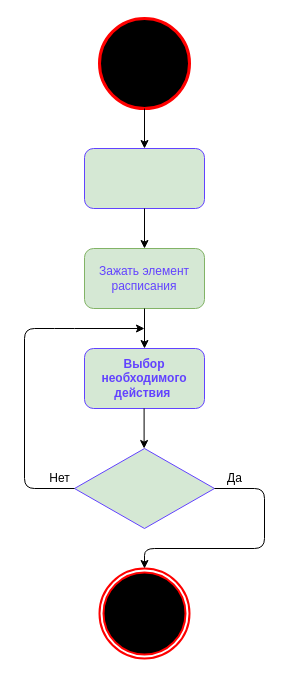
Some shapes in this 290 by 677 pixel diagram are drawn without their labels. Each missing label, with the centre of its shape:
Окно расписания: (144,178)
Результат удовлетворяет?: (144,488)
